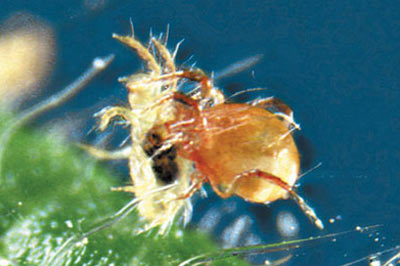Mites: (165, 70, 319, 219), (94, 23, 190, 230)
